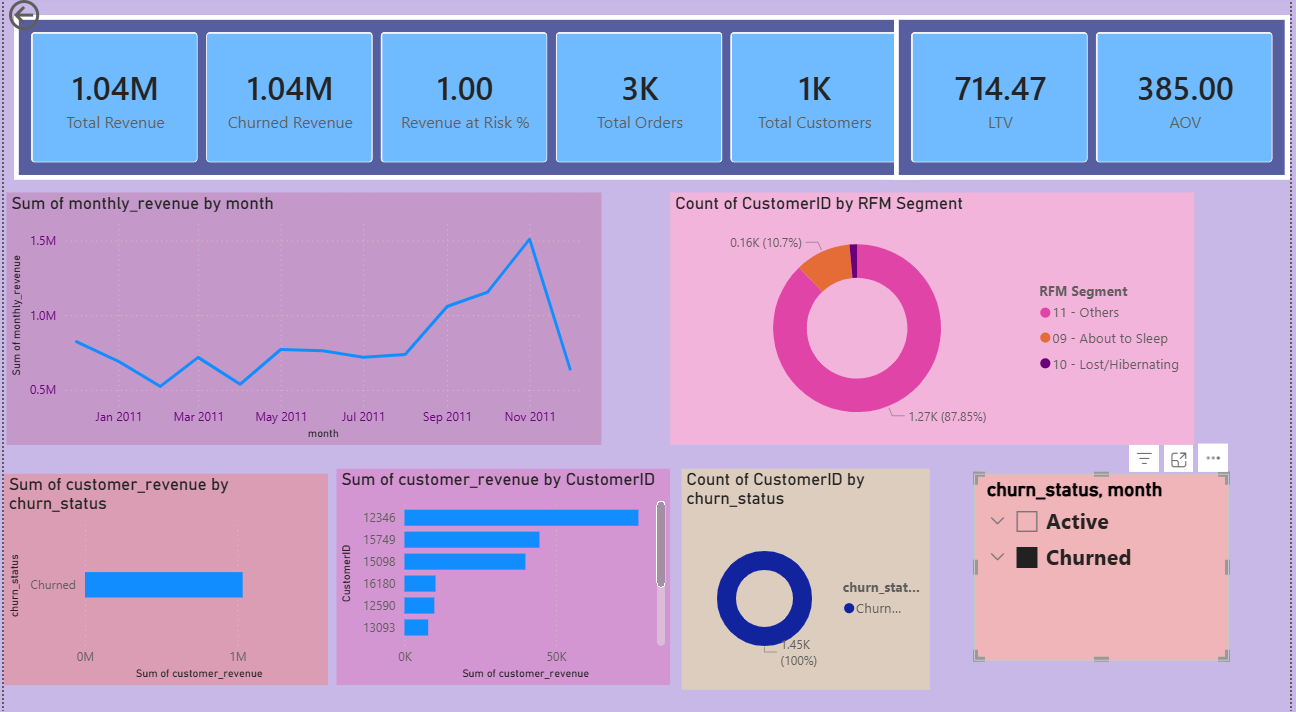

The page's visual inventory and layout, read from the dashboard file:
{"tool":"powerbi","page":{"name":"Page 1","canvas":[1280,720],"ordinal":0},"visuals":[{"type":"lineChart","fields":{"Category":["Query1.month.Variation.Date Hierarchy.Year","Query1.month.Variation.Date Hierarchy.Quarter","Query1.month.Variation.Date Hierarchy.Month","Query1.month.Variation.Date Hierarchy.Day"],"Y":["Sum(Query1.monthly_revenue)"]},"box":[2.5,196.5,592.1,251.3],"z":0},{"type":"barChart","fields":{"Category":["fact_customer_revenue.CustomerID"],"Y":["Sum(fact_customer_revenue.customer_revenue)"]},"box":[330.9,471.5,332.1,215.2],"z":1000},{"type":"donutChart","fields":{"Category":["dim_customer_churn.churn_status"],"Y":["CountNonNull(dim_customer_churn.CustomerID)"]},"box":[674.2,471.5,247.5,220.2],"z":2000},{"type":"barChart","fields":{"Category":["dim_customer_churn.churn_status"],"Y":["Sum(fact_customer_revenue.customer_revenue)"]},"box":[0,476.4,322.2,210.2],"z":3000},{"type":"cardVisual","fields":{"Data":["fact_customer_revenue.Total Revenue","dim_customer_churn.Churned Revenue","dim_customer_churn.Revenue at Risk %","dim_customer_churn.Total Orders Dynamic","dim_customer_churn.Total Customers Dynamic"]},"box":[10,19.9,900.6,164.2],"z":4000},{"type":"actionButton","box":[0,0,100,40],"z":5000},{"type":"slicer","fields":{"Values":["dim_customer_churn.churn_status","Query1.month"]},"box":[965.3,476.4,253.8,186.6],"z":6000},{"type":"cardVisual","fields":{"Data":["dim_customer_churn.LTV","fact_customer_revenue.AOV"]},"box":[885.7,19.9,394.3,164.2],"z":7000},{"type":"donutChart","fields":{"Category":["fact_rfm.RFM Segment"],"Y":["Count(dim_customer_churn.CustomerID)"]},"box":[663,196.5,521.2,251.3],"z":8000}]}

Visuals, with their boxes on the page's 1280x720 design canvas (x1, y1, x2, y2). These are canvas units, not pixel positions in the 1296x712 screenshot, which may show the page scaled, cropped or inside an application window:
lineChart - Query1.month.Variation.Date Hierarchy.Year x Query1.month.Variation.Date Hierarchy.Quarter: locate(2, 196, 595, 448)
barChart - fact_customer_revenue.CustomerID x Sum(fact_customer_revenue.customer_revenue): locate(331, 472, 663, 687)
donutChart - dim_customer_churn.churn_status x CountNonNull(dim_customer_churn.CustomerID): locate(674, 472, 922, 692)
barChart - dim_customer_churn.churn_status x Sum(fact_customer_revenue.customer_revenue): locate(0, 476, 322, 687)
cardVisual - fact_customer_revenue.Total Revenue x dim_customer_churn.Churned Revenue: locate(10, 20, 911, 184)
actionButton: locate(0, 0, 100, 40)
slicer - dim_customer_churn.churn_status x Query1.month: locate(965, 476, 1219, 663)
cardVisual - dim_customer_churn.LTV x fact_customer_revenue.AOV: locate(886, 20, 1280, 184)
donutChart - fact_rfm.RFM Segment x Count(dim_customer_churn.CustomerID): locate(663, 196, 1184, 448)
